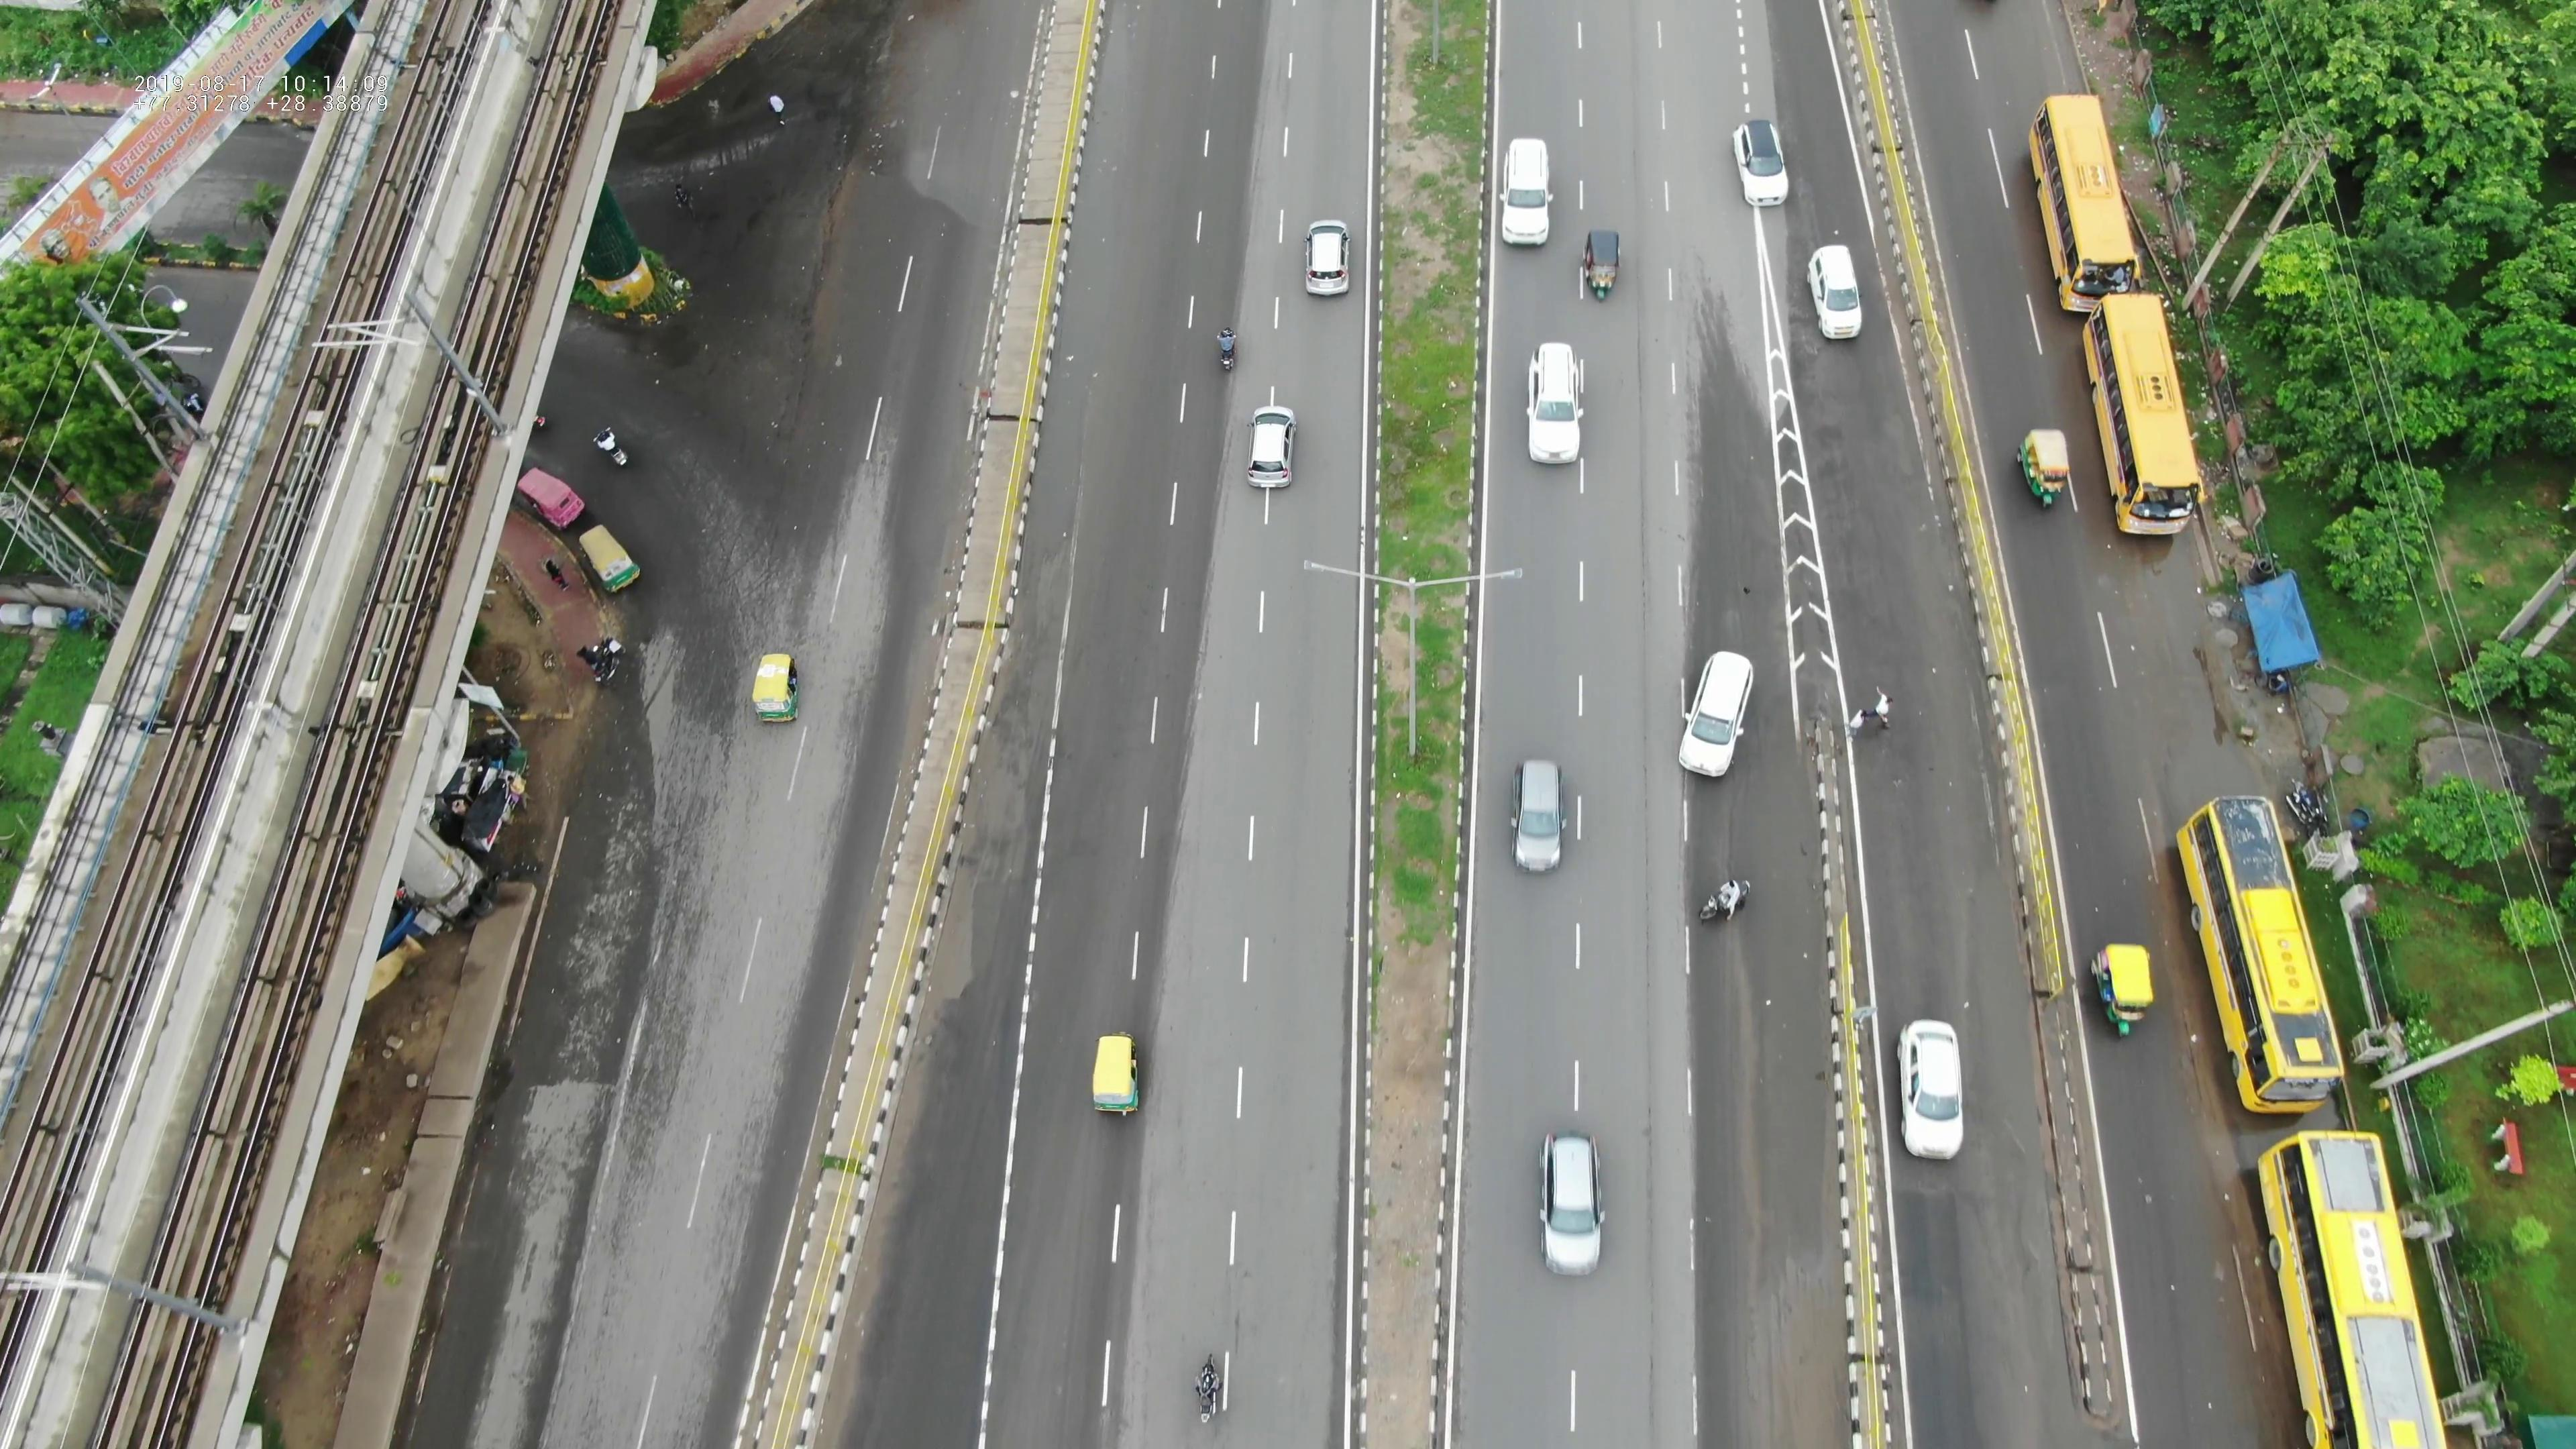Ravelling: (1633, 948, 1693, 1428), (1622, 405, 1677, 918), (1610, 62, 1683, 375)
